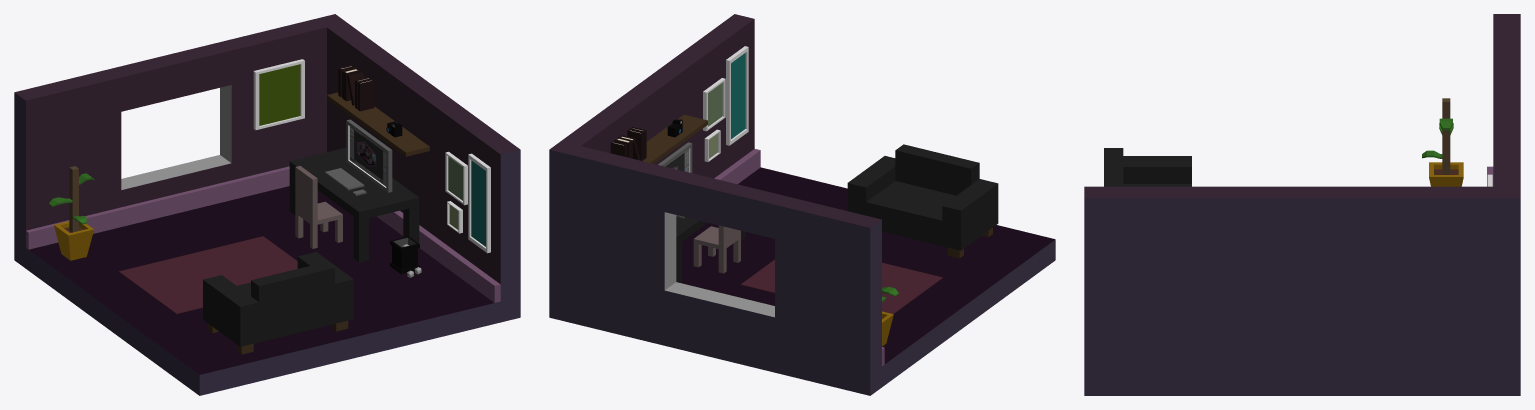
Rendered from isometric_blender_inception.glb.
3 views of the same model, side by side, from view 1: azimuth 30°, elevation 25°; view 2: azimuth 150°, elevation 25°; view 3: azimuth 270°, elevation 25° (orthographic). The views are drawn at different scales.
Parts seen in each view (by area): view 1: walls, floor, sofa, mat, table, paint.02, chair, monitor, plant, paint.03, shelf, paint.01 (+3 smaller); view 2: walls, floor, sofa, mat, paint.03, chair, shelf, paint.01, table, monitor, paint.04; view 3: walls, floor, sofa, plant.
Part boxes in pixels (x1,y1,x2,y2): walls: [14, 14, 520, 302]; floor: [14, 186, 520, 395]; sofa: [203, 252, 353, 354]; mat: [118, 236, 297, 314]; table: [289, 147, 419, 262]; paint.02: [253, 59, 304, 129]; chair: [295, 166, 342, 248]; monitor: [346, 119, 392, 192]; plant: [49, 166, 94, 260]; paint.03: [468, 153, 490, 253]; shelf: [327, 92, 429, 156]; paint.01: [445, 151, 467, 205]; walls: [549, 14, 884, 374]; floor: [549, 167, 1055, 395]; sofa: [847, 144, 998, 258]; mat: [740, 259, 942, 313]; paint.03: [726, 46, 748, 145]; chair: [693, 225, 740, 273]; shelf: [643, 114, 707, 163]; paint.01: [703, 78, 725, 131]; table: [676, 217, 745, 283]; monitor: [658, 142, 692, 172]; paint.04: [704, 129, 720, 161]; walls: [1084, 14, 1520, 371]; floor: [1084, 371, 1520, 395]; sofa: [1104, 148, 1191, 186]; plant: [1422, 98, 1463, 186].
Size of the model in its own units: 16 by 8 by 16.
29 materials, 1 textured.
